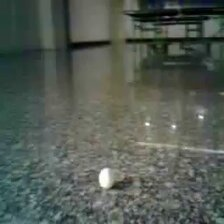w: (98, 168, 115, 188)
